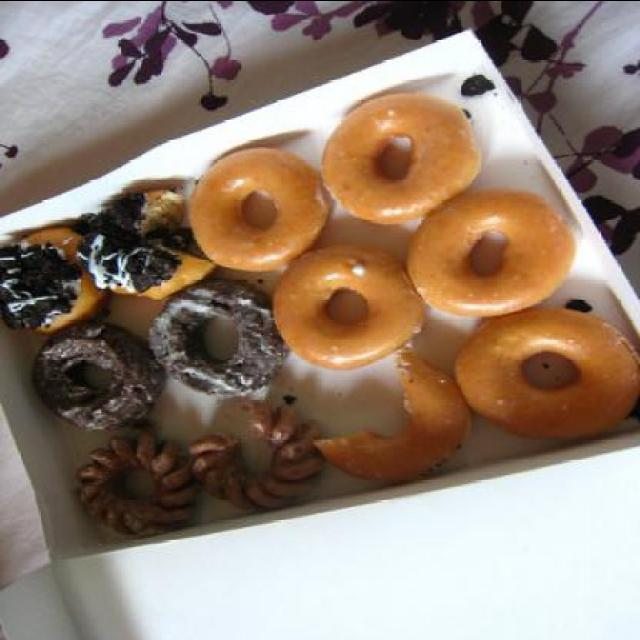Donuts: (1, 91, 637, 543)
